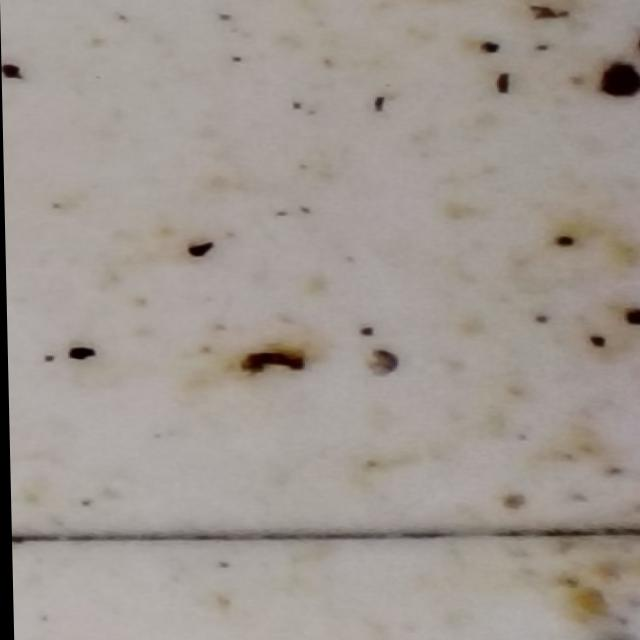varroa: (594, 64, 640, 98), (630, 32, 640, 64)
